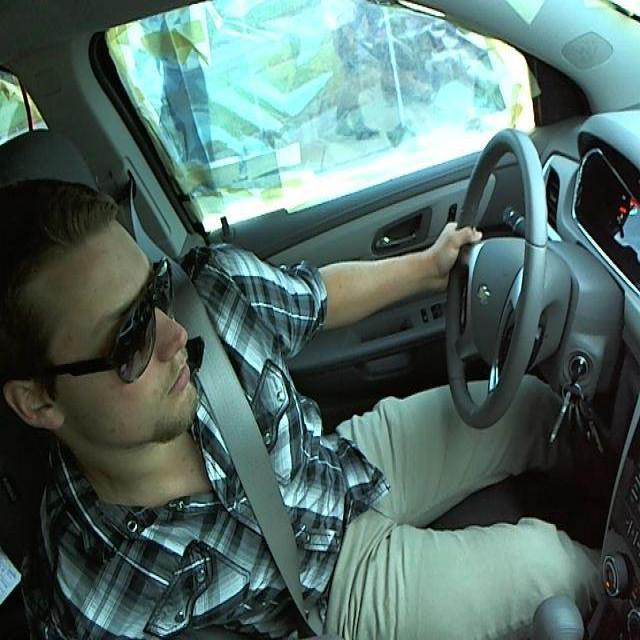seatbelt: (158, 310, 334, 626)
